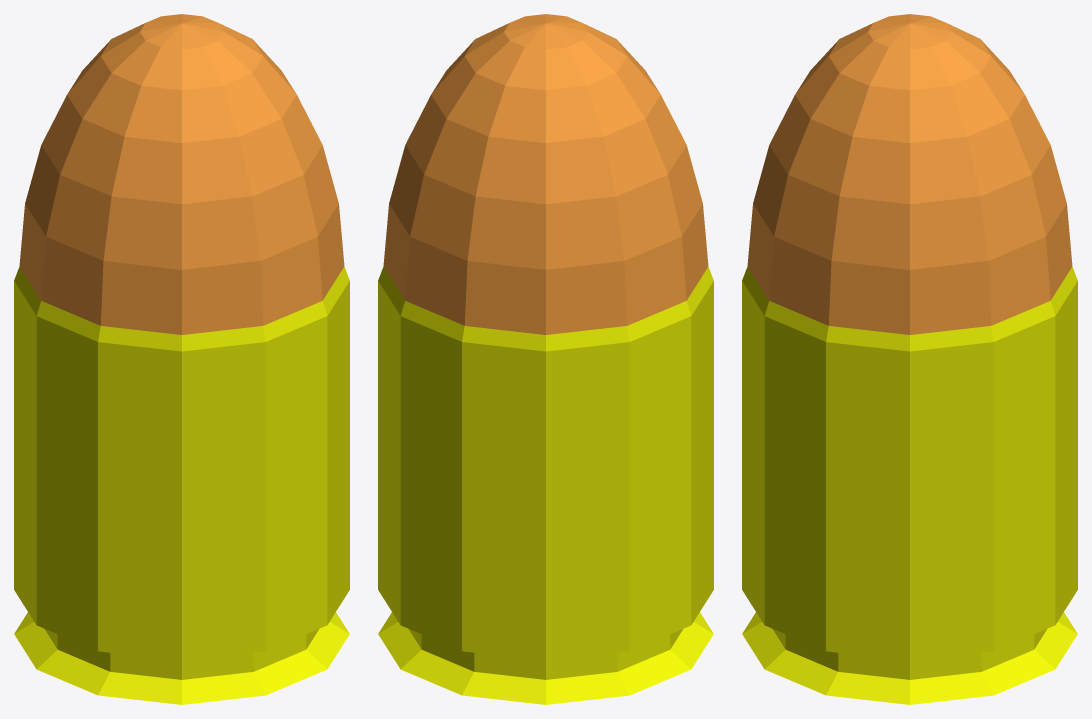
File: 9mm Cartridge_3DModel_2.fbx
The picture shows the model from 3 angles, left to right: view 1: azimuth 30°, elevation 25°; view 2: azimuth 150°, elevation 25°; view 3: azimuth 270°, elevation 25°; orthographic projection.
Visible parts, largest first — view 1: Casing, Bullet; view 2: Casing, Bullet; view 3: Casing, Bullet.
Boxes of the visible parts, <box> form: Casing: <box>14,266,349,704</box>; Bullet: <box>19,14,344,334</box>; Casing: <box>378,266,713,704</box>; Bullet: <box>383,14,708,334</box>; Casing: <box>742,266,1077,704</box>; Bullet: <box>747,14,1072,334</box>.
Size of the model in its own units: 0.0207 by 0.0415 by 0.0207.
